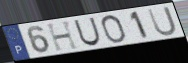1: (130, 10, 151, 41)
6: (26, 25, 51, 55)
H: (45, 20, 81, 53)
O: (100, 13, 128, 44)
U: (146, 5, 179, 38), (73, 16, 103, 47)
